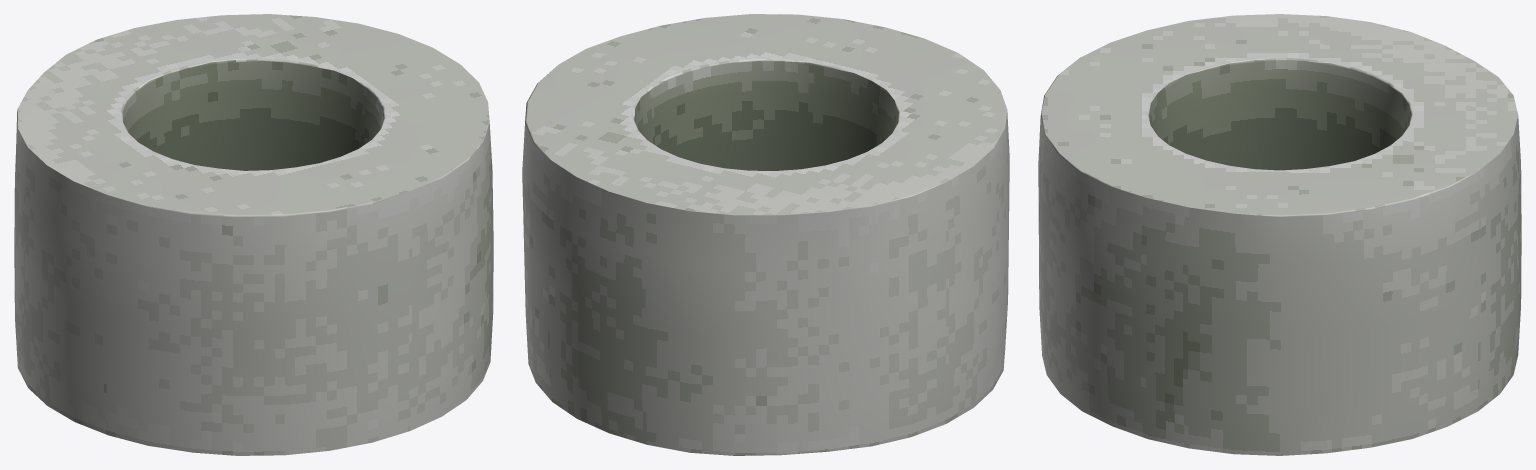
File: medical_tape.glb
The picture shows the model from 3 angles, left to right: view 1: azimuth 30°, elevation 25°; view 2: azimuth 150°, elevation 25°; view 3: azimuth 270°, elevation 25°; orthographic projection.
Visible parts, largest first — view 1: body; view 2: body; view 3: body.
Boxes of the visible parts, x1,y1,x2,y2 form: body: (14, 14, 493, 455); body: (522, 14, 1009, 455); body: (1038, 14, 1521, 455).
Bounding box in the file's own units: 0.0453 × 0.025 × 0.0452.
Materials: 1 (1 with a texture image).
